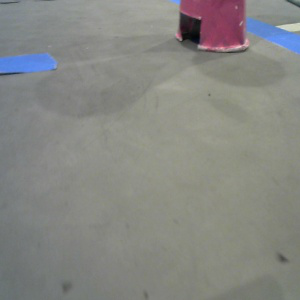right: (175, 1, 251, 53)
